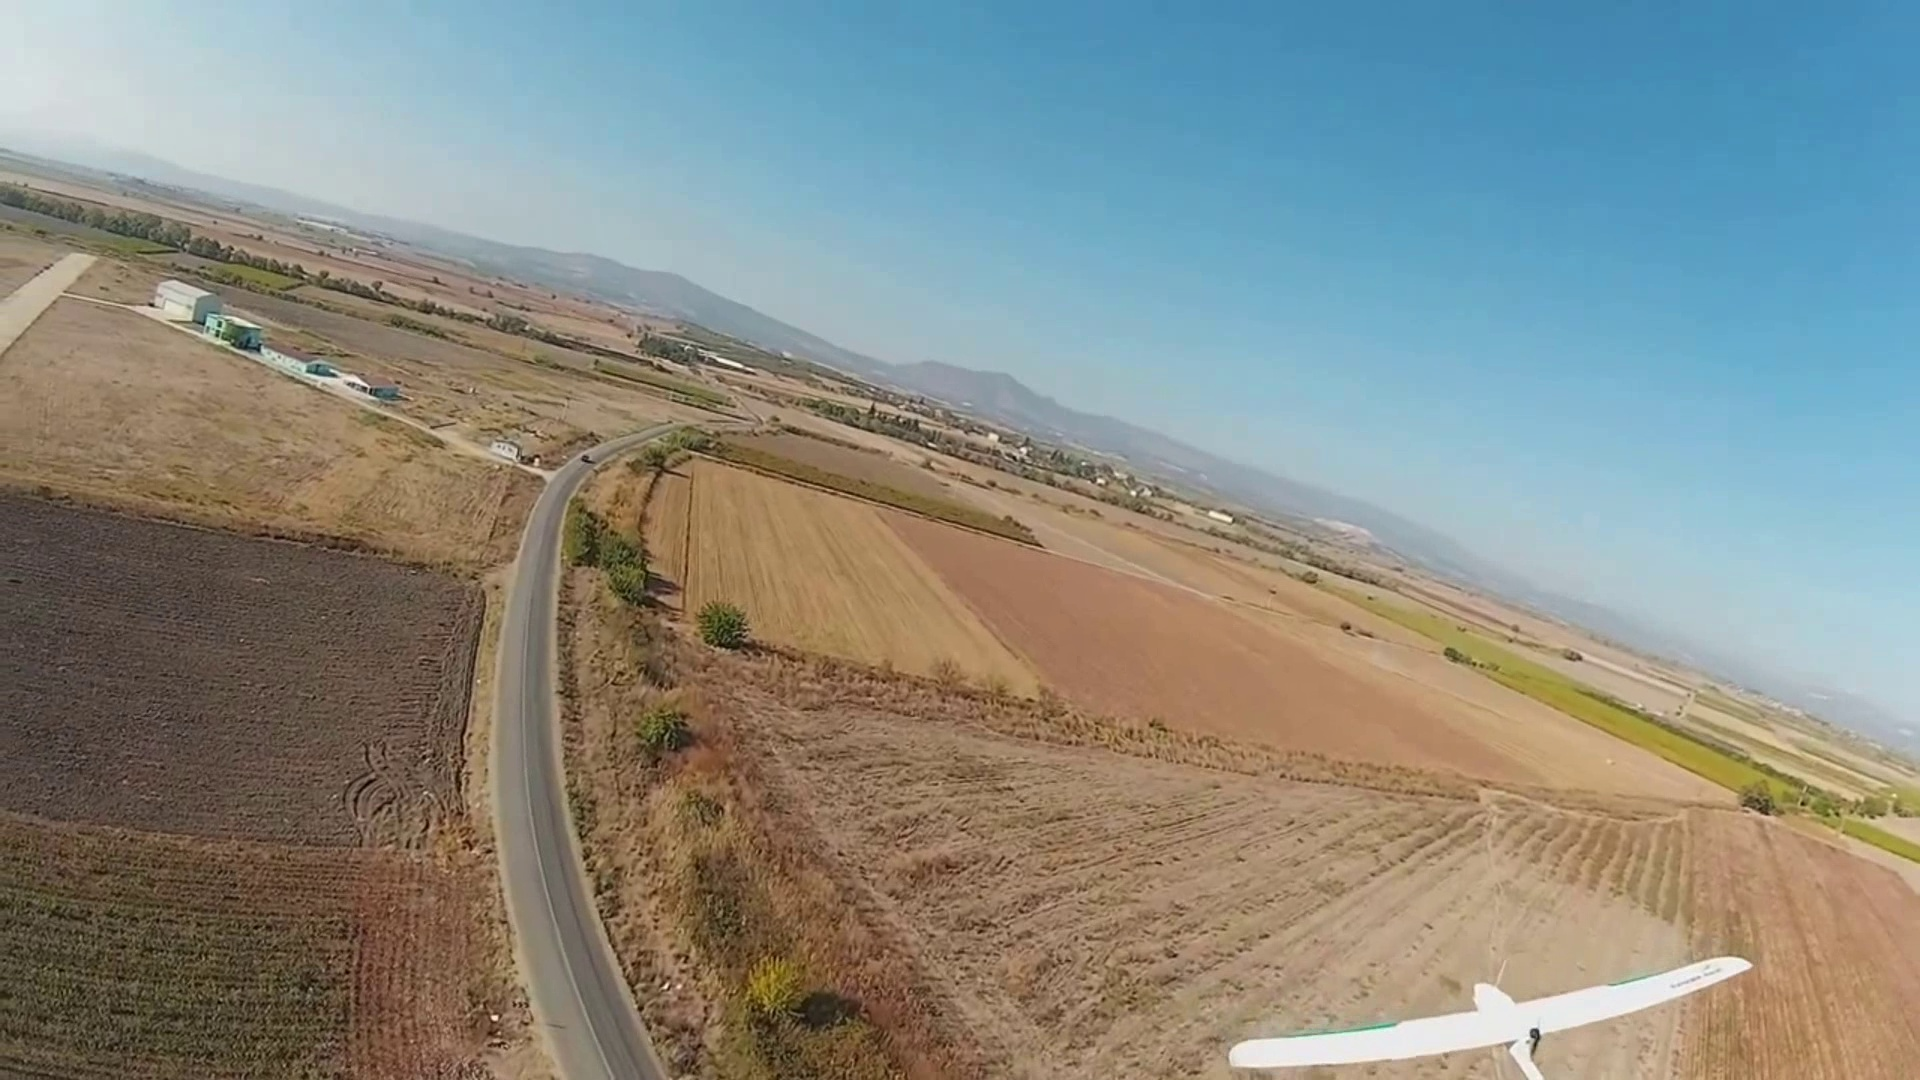airplane: (1226, 955, 1753, 1076)
